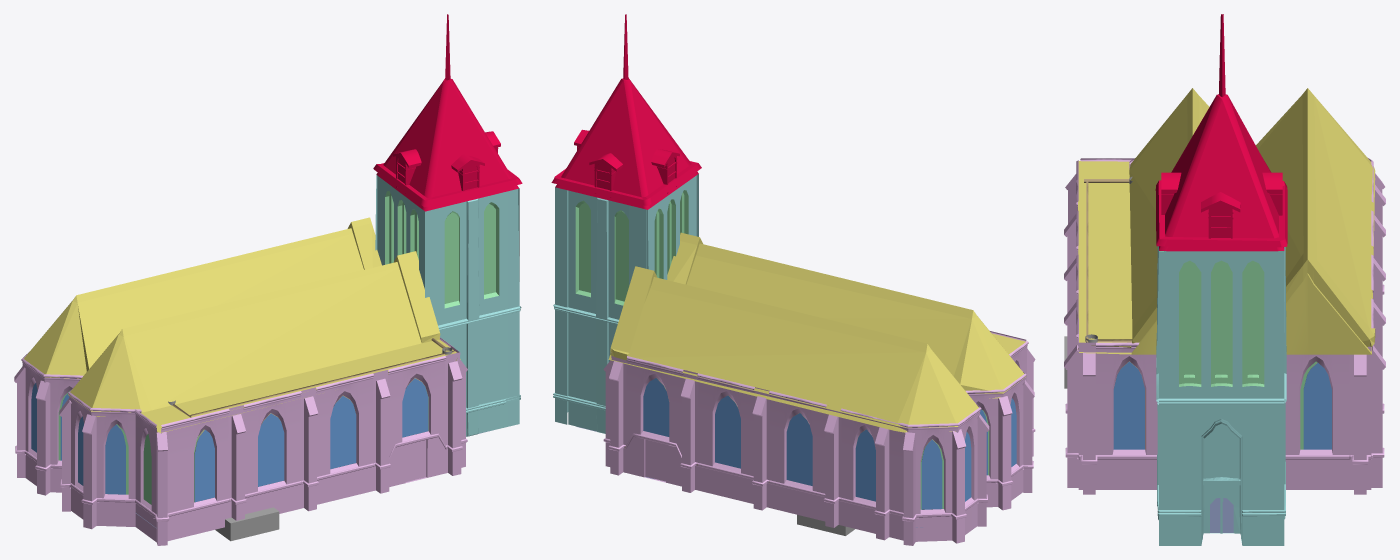
The model's file is Church_PlayTest2.fbx.
The picture shows the model from 3 angles, left to right: view 1: azimuth 30°, elevation 25°; view 2: azimuth 150°, elevation 25°; view 3: azimuth 270°, elevation 25°; orthographic projection. The views are drawn at different scales.
Parts seen in each view (by area): view 1: polySurface202, polySurface164, polySurface29, polySurface30, polySurface163, pCube3, polySurface206, polySurface207; view 2: polySurface202, polySurface164, polySurface29, polySurface30, polySurface163, polySurface204, polySurface24, polySurface207; view 3: polySurface29, polySurface202, polySurface164, polySurface30, polySurface163, polySurface204, polySurface205, pPlane3, polySurface24, polySurface206.
Part boxes in pixels (x1=…): polySurface202: x1=24, y1=217, x2=457, y2=428; polySurface164: x1=14, y1=337, x2=467, y2=545; polySurface29: x1=375, y1=175, x2=521, y2=436; polySurface30: x1=373, y1=14, x2=522, y2=211; polySurface163: x1=31, y1=338, x2=454, y2=502; pCube3: x1=215, y1=507, x2=279, y2=541; polySurface206: x1=451, y1=154, x2=484, y2=190; polySurface207: x1=393, y1=149, x2=421, y2=193; polySurface202: x1=610, y1=232, x2=1025, y2=427; polySurface164: x1=603, y1=331, x2=1035, y2=545; polySurface29: x1=553, y1=174, x2=698, y2=433; polySurface30: x1=551, y1=14, x2=701, y2=209; polySurface163: x1=625, y1=378, x2=1016, y2=509; polySurface204: x1=608, y1=355, x2=1000, y2=432; polySurface24: x1=589, y1=153, x2=622, y2=197; polySurface207: x1=651, y1=149, x2=679, y2=193; polySurface29: x1=1156, y1=246, x2=1286, y2=545; polySurface202: x1=1077, y1=88, x2=1375, y2=349; polySurface164: x1=1064, y1=157, x2=1385, y2=494; polySurface30: x1=1155, y1=14, x2=1287, y2=251; polySurface163: x1=1084, y1=179, x2=1331, y2=449; polySurface204: x1=1078, y1=178, x2=1375, y2=354; polySurface205: x1=1201, y1=192, x2=1240, y2=238; pPlane3: x1=1210, y1=498, x2=1233, y2=532; polySurface24: x1=1262, y1=172, x2=1282, y2=215; polySurface206: x1=1161, y1=172, x2=1181, y2=214.
Bounding box in the file's own units: 35.04 × 31.5 × 17.81.
